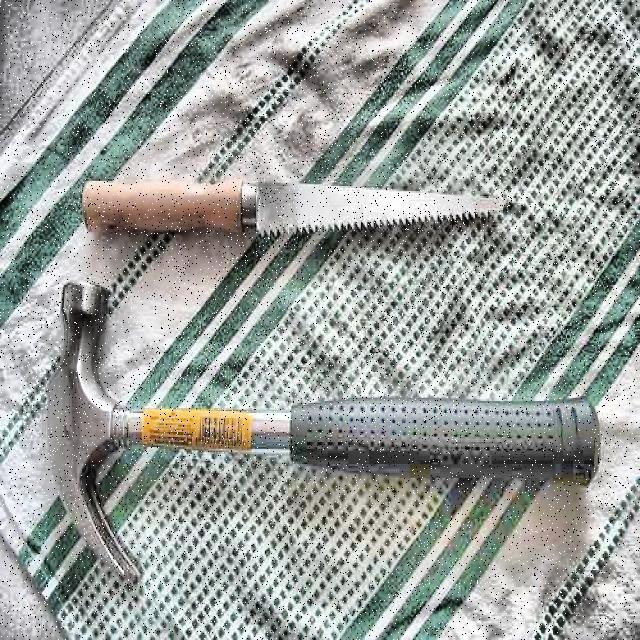hammer: (45, 279, 603, 579)
